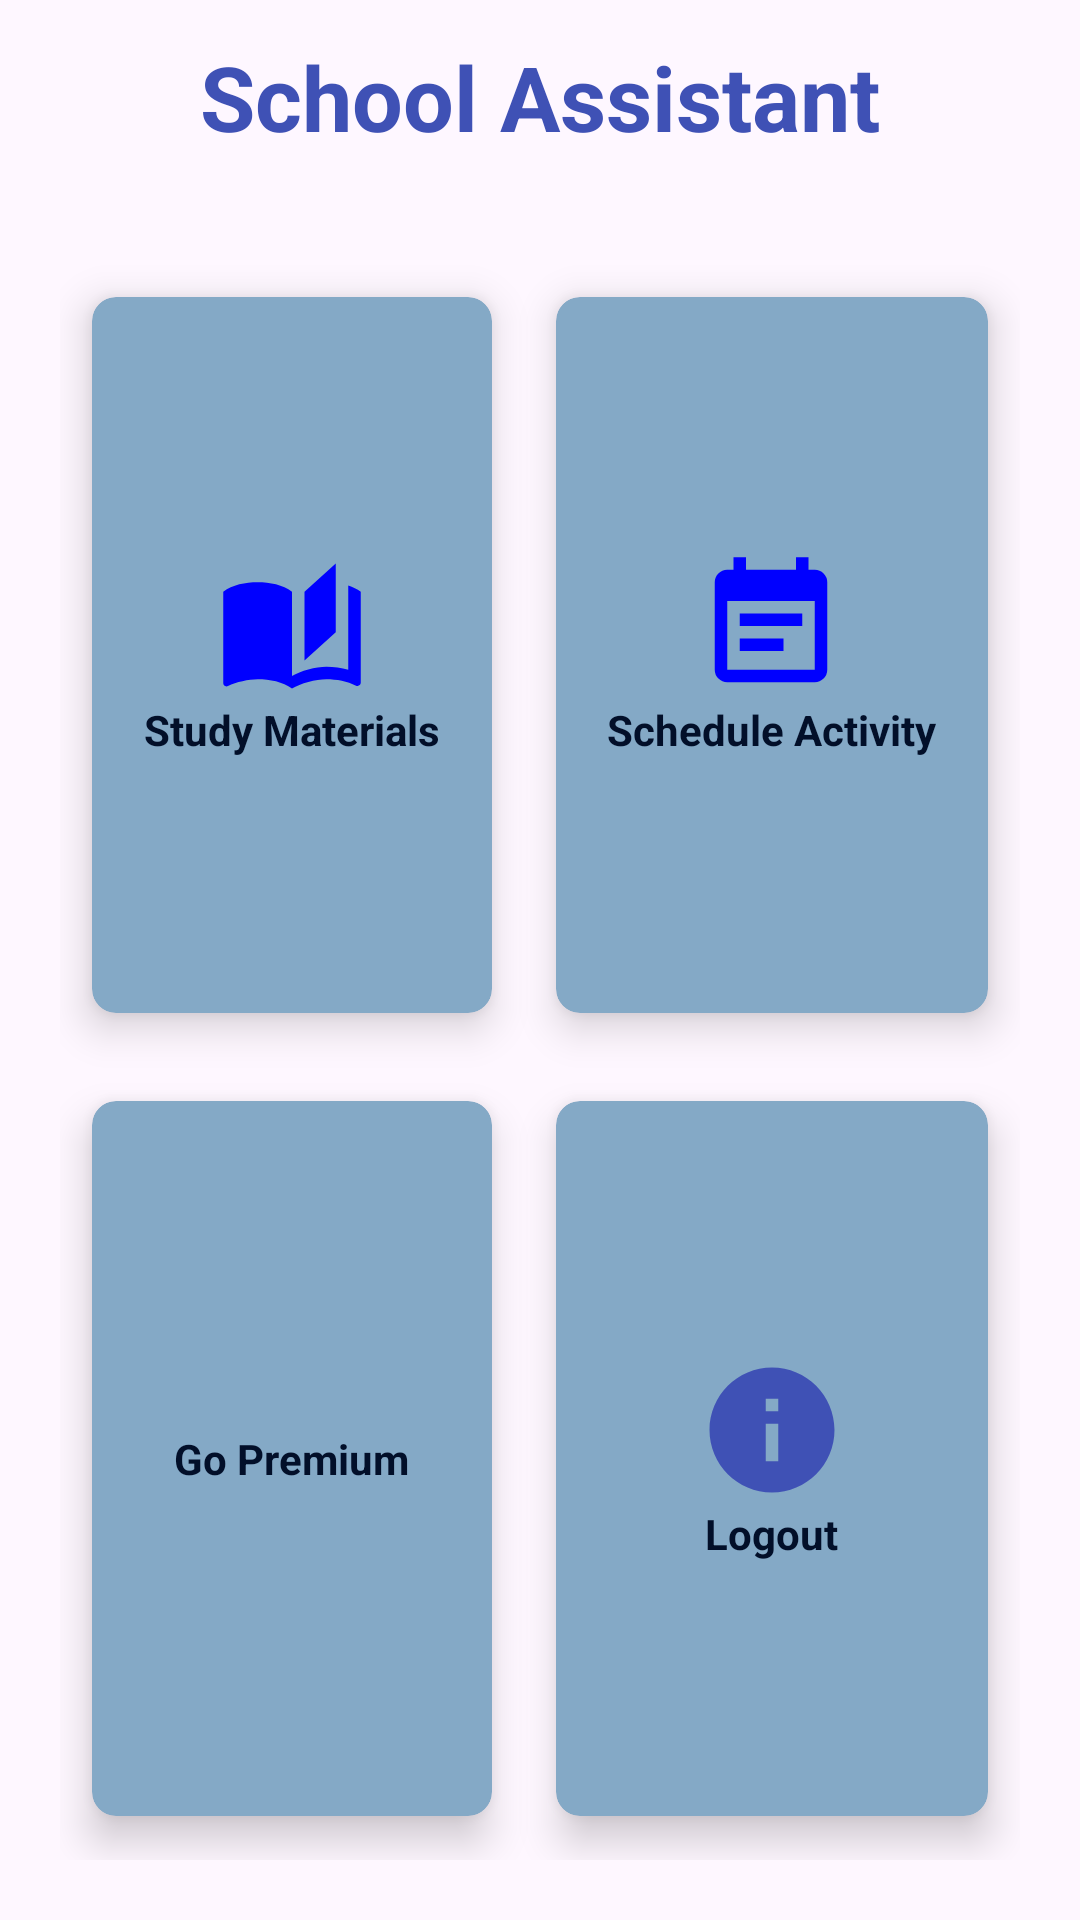

Where to tap for icons on this 1080px x 1920px app screen, as [x,y]:
book: [292,626]
cal: [771,620]
info: [772,1430]
